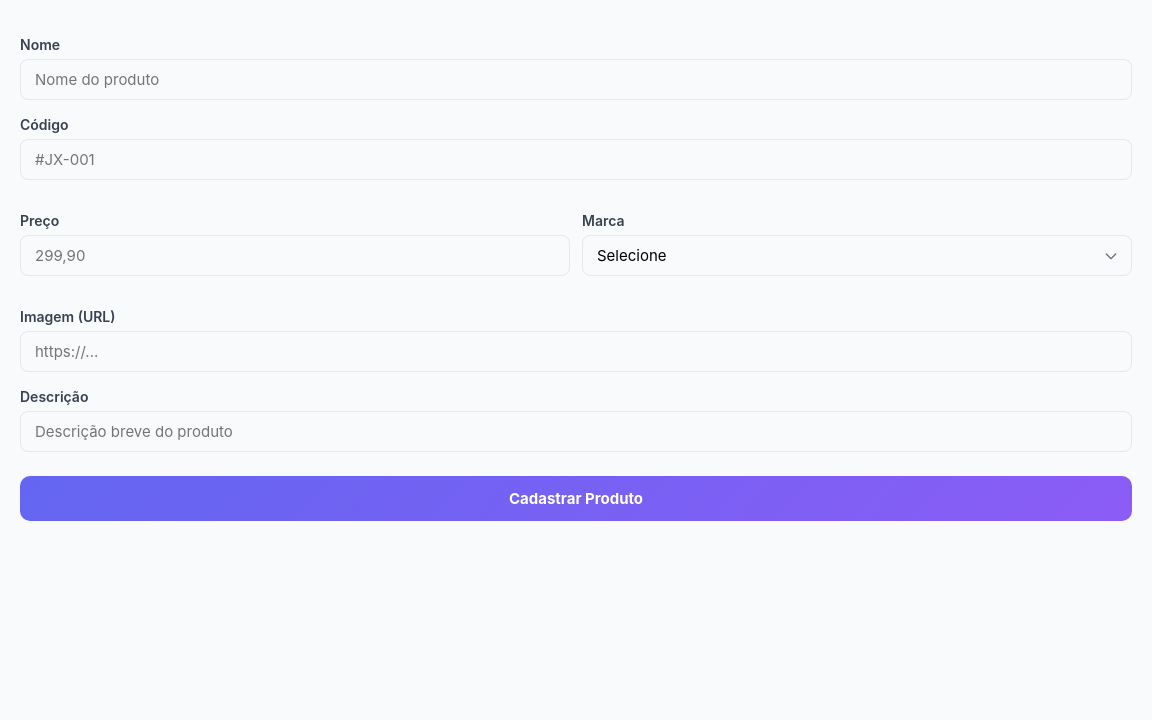
Test case: aplica máscara ao digitar preço
Type "1000" into the field labelled "Preço" at (295, 256), box [20,235,570,276]
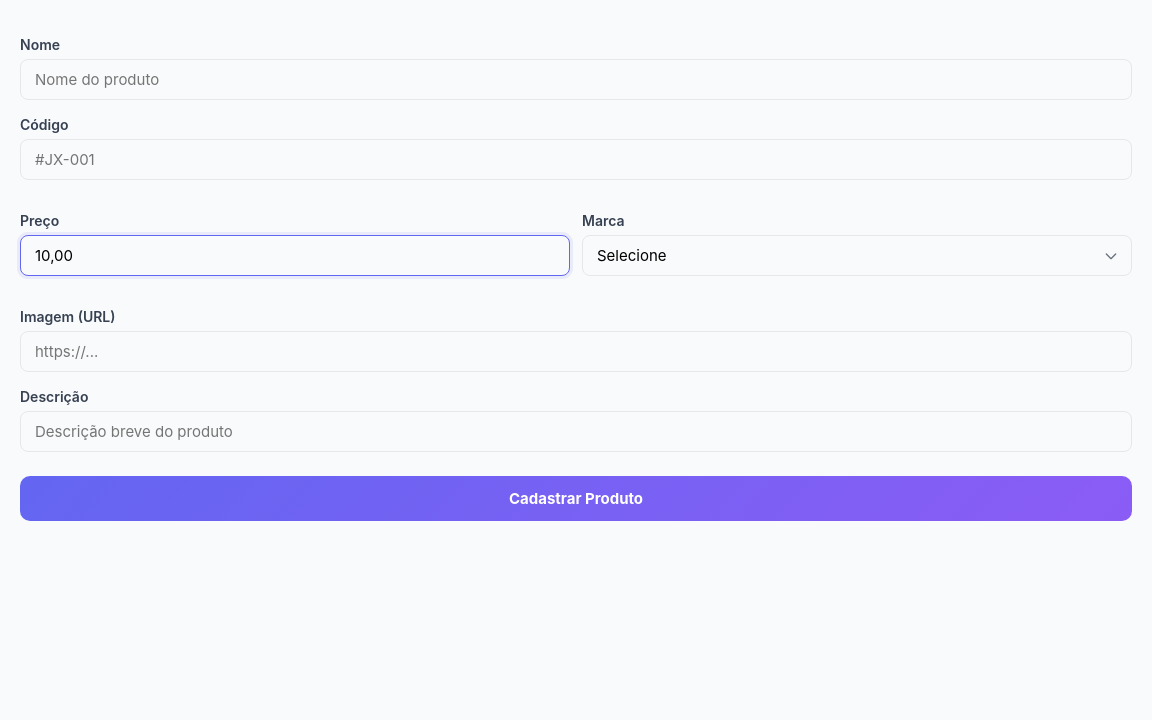
Expected: the field labelled "Preço" holds "10,00", [20,235,570,276]
